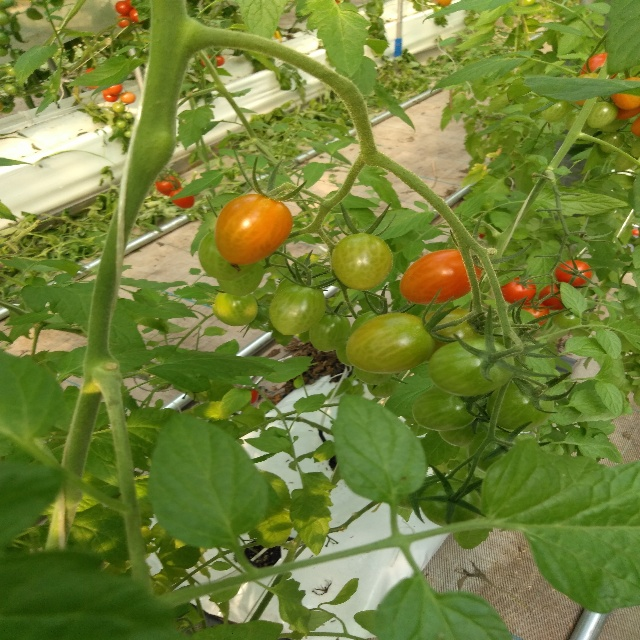l_fully_ripened: (401, 249, 483, 305), (554, 260, 593, 286), (501, 278, 536, 305), (539, 282, 566, 311), (518, 302, 550, 326), (154, 175, 182, 196), (169, 187, 195, 209)
l_green: (346, 312, 436, 374), (429, 338, 515, 396), (423, 307, 490, 362), (332, 233, 393, 290), (487, 381, 554, 431), (412, 386, 479, 432), (199, 231, 261, 280), (418, 481, 484, 527), (269, 284, 326, 336), (467, 430, 519, 473), (213, 289, 258, 326), (310, 313, 351, 352), (216, 263, 263, 297), (274, 272, 324, 298), (437, 420, 483, 447), (587, 101, 617, 128), (355, 365, 394, 385), (366, 377, 398, 398), (542, 99, 568, 122), (600, 132, 626, 153)
l_half_ripened: (214, 193, 292, 266), (610, 77, 639, 110)
